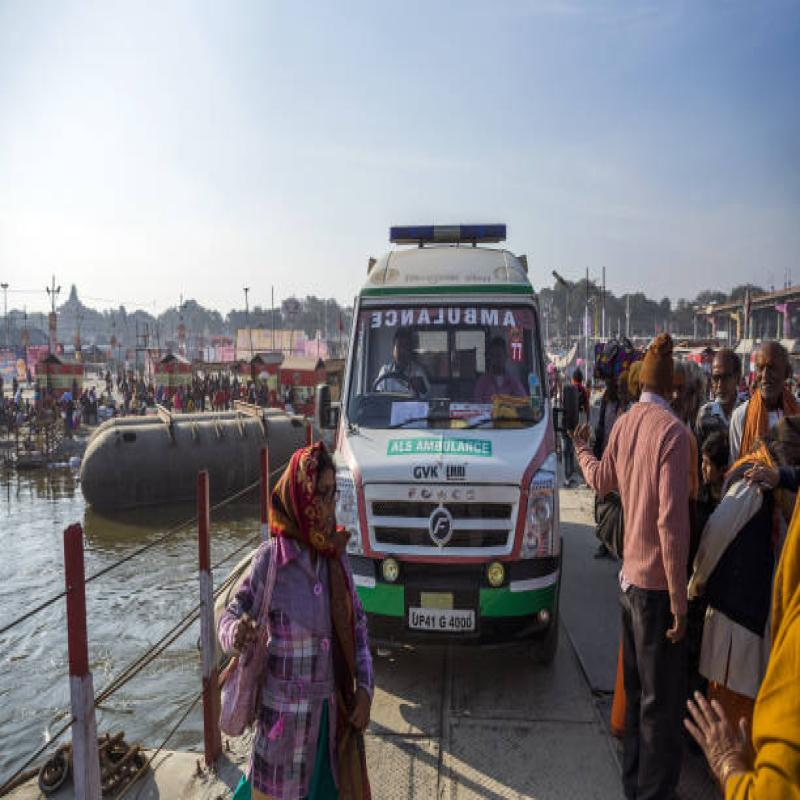AmbulanceSiren: (376, 218, 516, 251)
ambulance: (346, 248, 566, 662)
